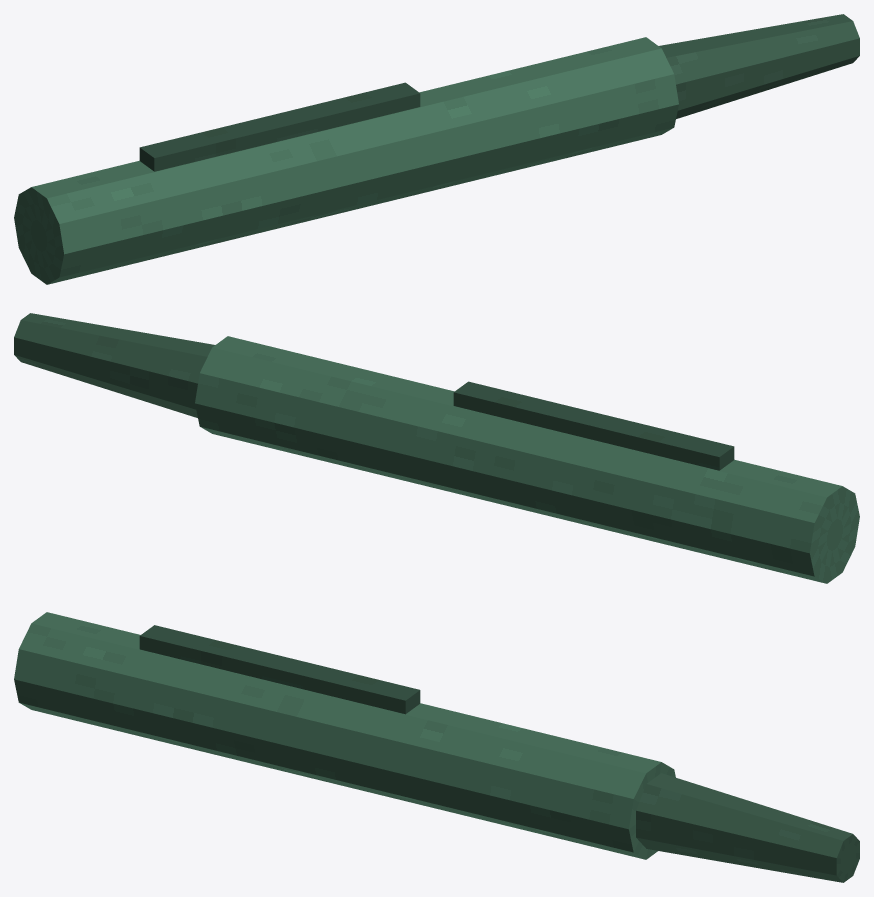
The model's file is green_pen.glb.
The picture shows the model from 3 angles, top to bottom: view 1: azimuth 30°, elevation 25°; view 2: azimuth 150°, elevation 25°; view 3: azimuth 330°, elevation 25°; orthographic projection.
Parts seen in each view (by area): view 1: block_main barrel, block_cap or tip, block_clip; view 2: block_main barrel, block_cap or tip, block_clip; view 3: block_main barrel, block_cap or tip, block_clip.
Part boxes in pixels (box(x1,y1,x2,y2)): block_main barrel: box(14, 37, 678, 284); block_cap or tip: box(659, 14, 859, 118); block_clip: box(139, 82, 420, 171); block_main barrel: box(195, 336, 859, 583); block_cap or tip: box(14, 313, 214, 417); block_clip: box(453, 381, 734, 470); block_main barrel: box(14, 612, 675, 859); block_cap or tip: box(636, 773, 859, 882); block_clip: box(139, 625, 420, 714).
Size of the model in its own units: 0.13 by 0.0154 by 0.014.
1 material, 1 textured.
